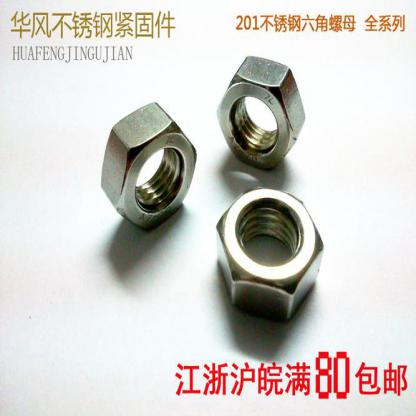FOD: (213, 183, 328, 325), (100, 101, 197, 228), (216, 54, 307, 169)
